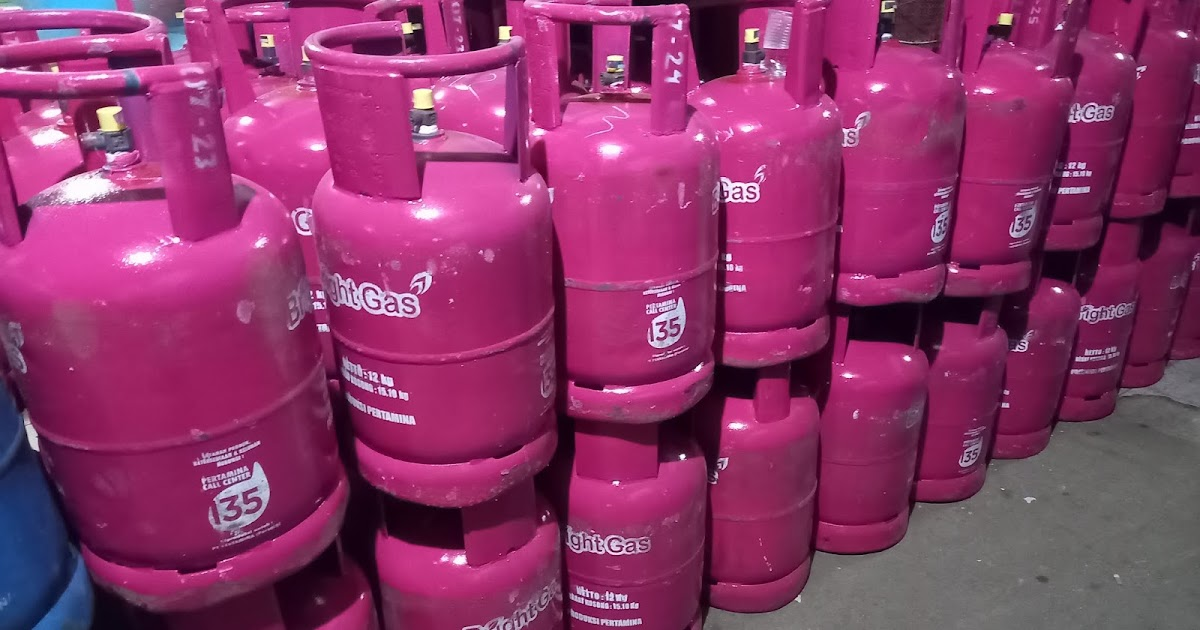bright_gas: (1, 38, 349, 610), (304, 25, 558, 510), (520, 2, 720, 419), (687, 2, 837, 370), (822, 1, 967, 303), (933, 1, 1072, 298), (557, 414, 704, 630), (367, 472, 562, 630), (702, 364, 824, 614), (816, 306, 931, 559), (1040, 4, 1137, 252), (905, 296, 1009, 498), (1110, 2, 1200, 217), (1052, 221, 1139, 422), (980, 288, 1080, 459), (1107, 216, 1200, 390)
